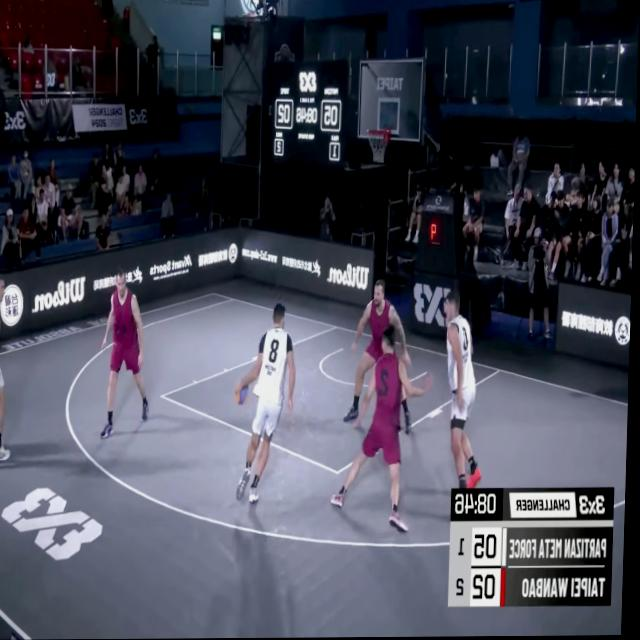ball: (238, 385, 252, 405)
hoop: (368, 128, 391, 165)
player: (328, 328, 435, 537), (235, 301, 302, 510), (347, 281, 420, 435), (443, 292, 488, 496), (101, 273, 154, 441), (0, 276, 16, 470)
